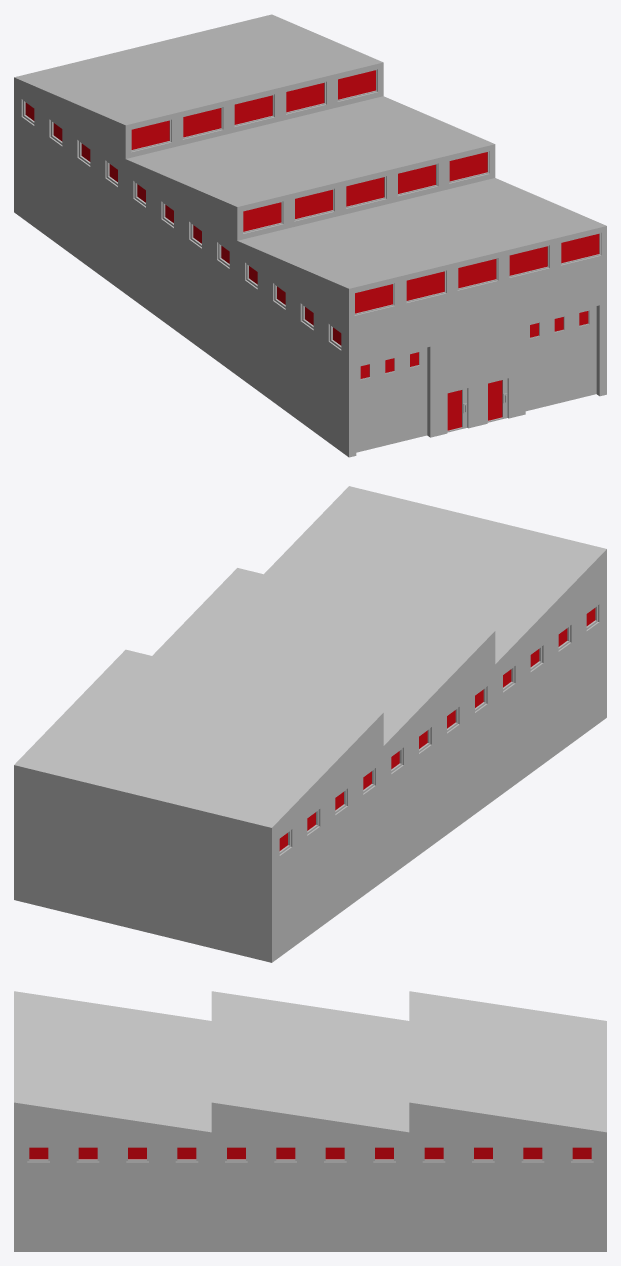
The model's file is SM_infrastructure_buildings_012.gltf.
3 views of the same model, one above another, from view 1: azimuth 30°, elevation 25°; view 2: azimuth 150°, elevation 25°; view 3: azimuth 270°, elevation 25° (orthographic). The views are drawn at different scales.
Visible parts, largest first — view 1: infrastructure_buildings_012; view 2: infrastructure_buildings_012; view 3: infrastructure_buildings_012.
Part boxes in pixels (x1,y1,x2,y2): infrastructure_buildings_012: (14,14,606,457); infrastructure_buildings_012: (14,486,606,962); infrastructure_buildings_012: (14,991,606,1251).
Size of the model in its own units: 16 by 10 by 36.
